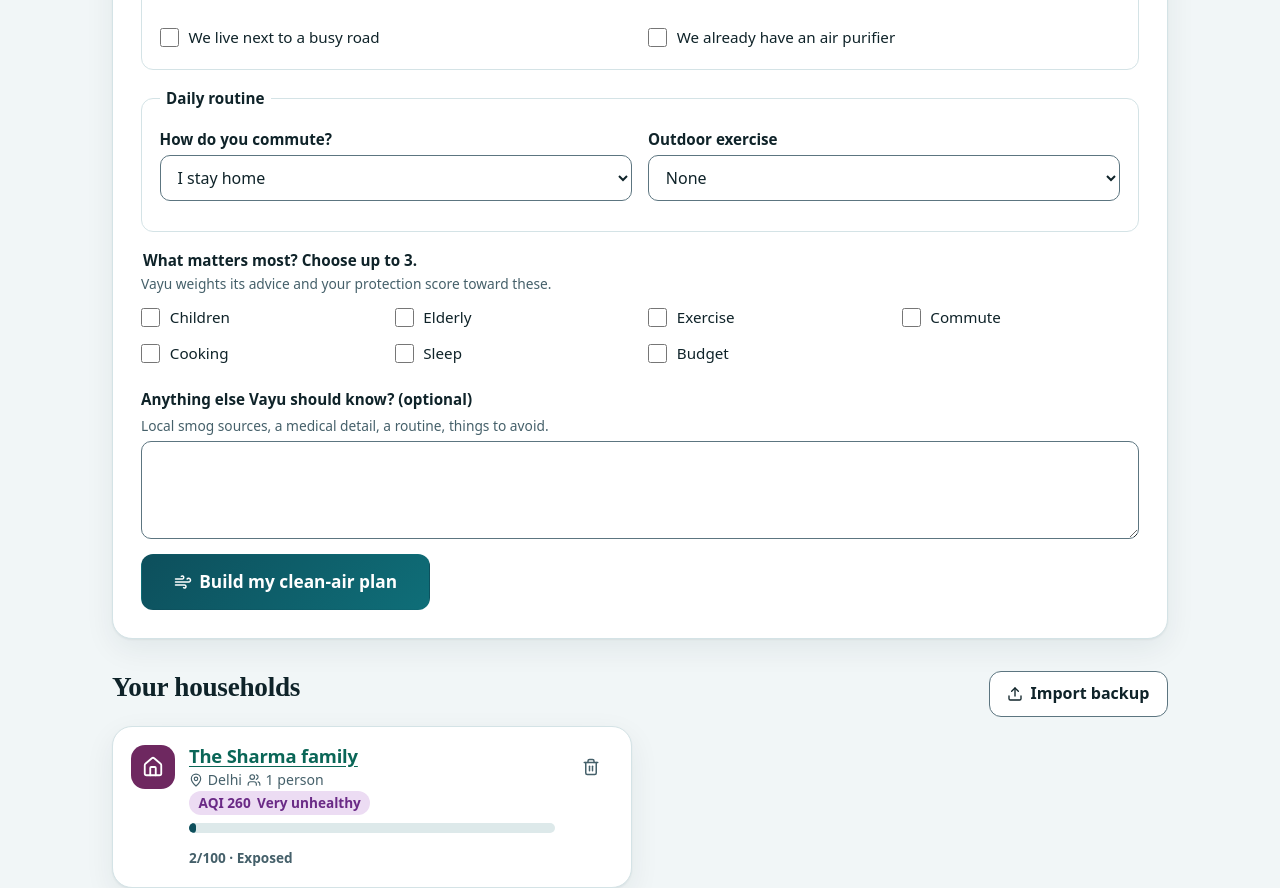
Test: HomePage › keeps a plan when deletion is cancelled
(page scrolled)
Check: the text "Delhi 1 person" is shown, box [189,770,324,789]
Click the button named "delete the sharma family": {"x": 591, "y": 767} [569,745,613,789]
(page scrolled)
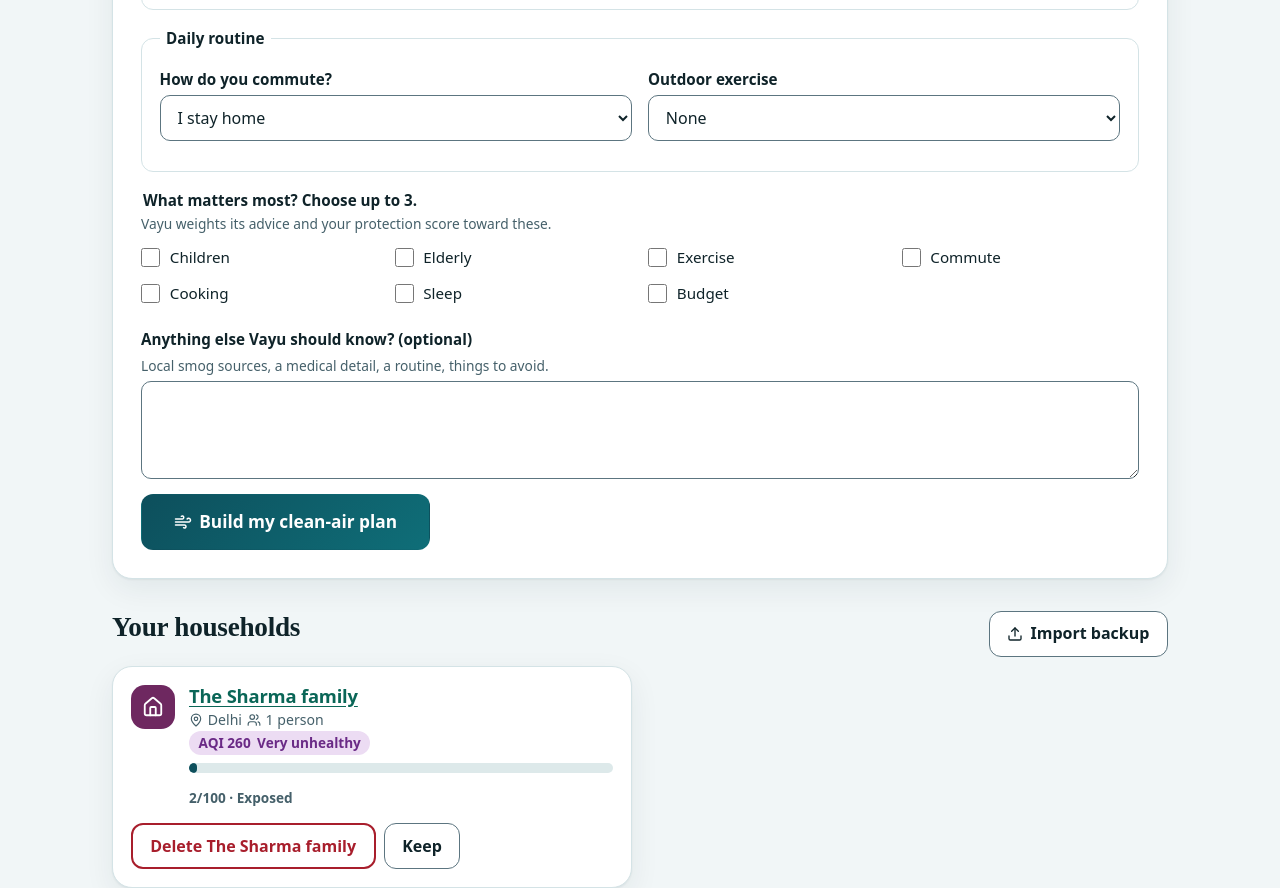
Click the button "Keep": {"x": 422, "y": 846} [384,823,460,869]
(page scrolled)
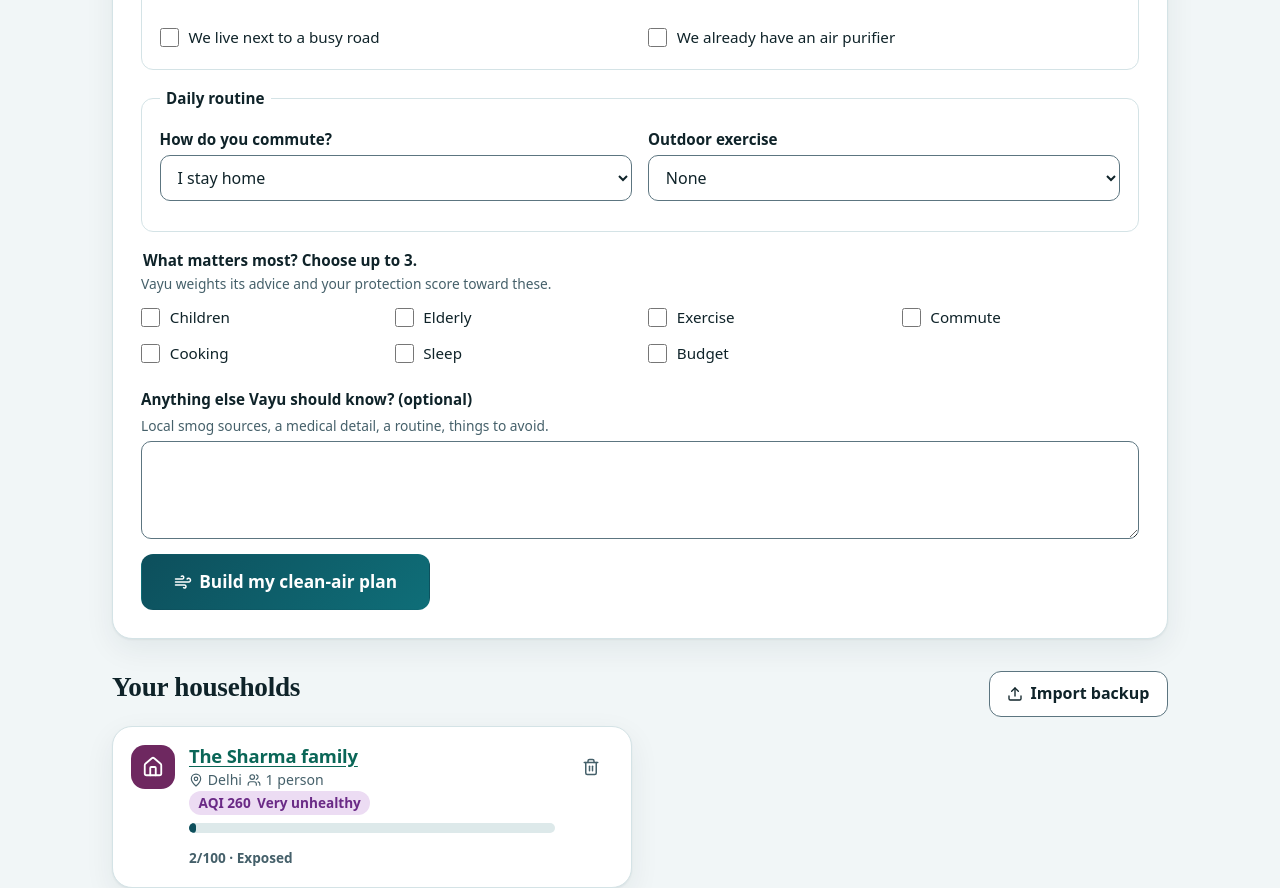
Check: the button named "delete the sharma family" is shown, box [569,745,613,789]
